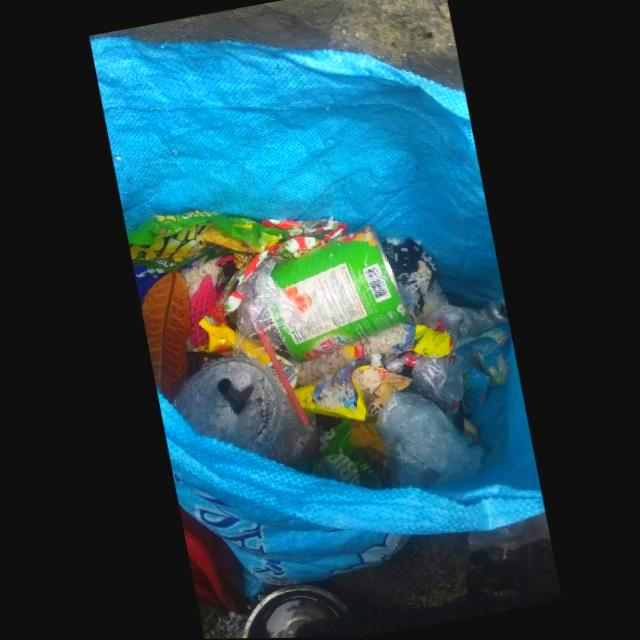aluminum: (256, 229, 408, 361)
food_wrapper: (125, 210, 286, 273)
plastic_bag: (373, 393, 482, 489)
